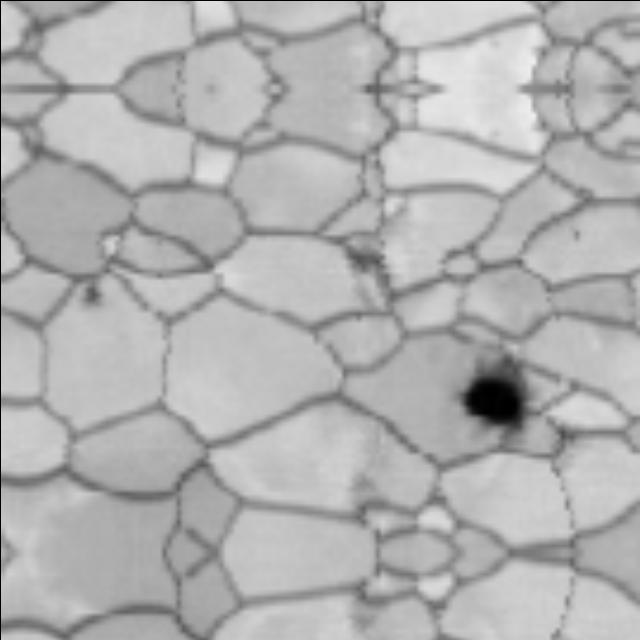good_void: (443, 353, 540, 435), (326, 452, 397, 520), (334, 230, 388, 276), (337, 596, 393, 640), (557, 211, 596, 254), (75, 281, 108, 314)
